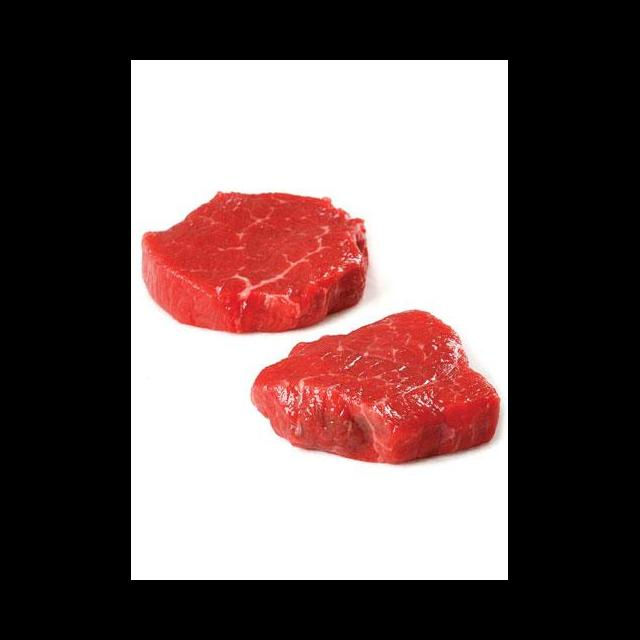beef: (251, 296, 508, 476), (140, 178, 372, 336)
